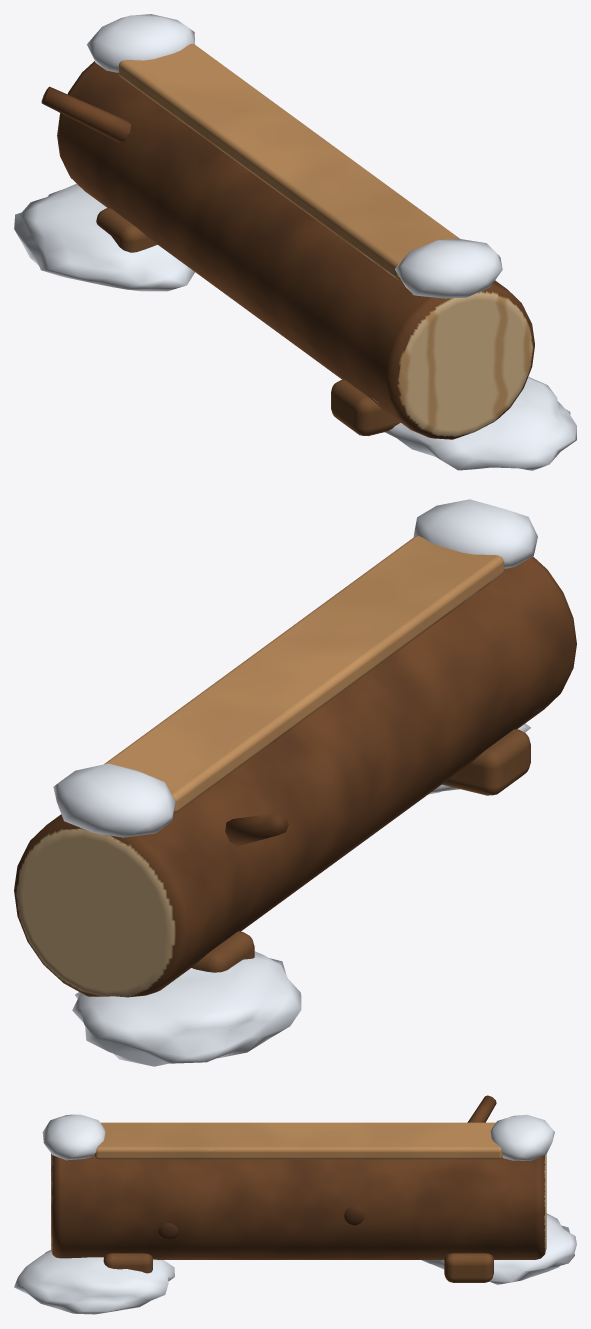
The model's file is log_seat_y.glb.
The picture shows the model from 3 angles, top to bottom: view 1: azimuth 30°, elevation 25°; view 2: azimuth 150°, elevation 25°; view 3: azimuth 270°, elevation 25°; orthographic projection. The views are drawn at different scales.
Visible parts, largest first — view 1: chock; view 2: chock; view 3: chock.
Part boxes in pixels (x1,y1,x2,y2): chock: (14,14,576,470); chock: (14,499,576,1066); chock: (14,1095,576,1314).
Size of the model in its own units: 0.6832 by 0.5797 by 1.82.
1 material, 1 textured.
